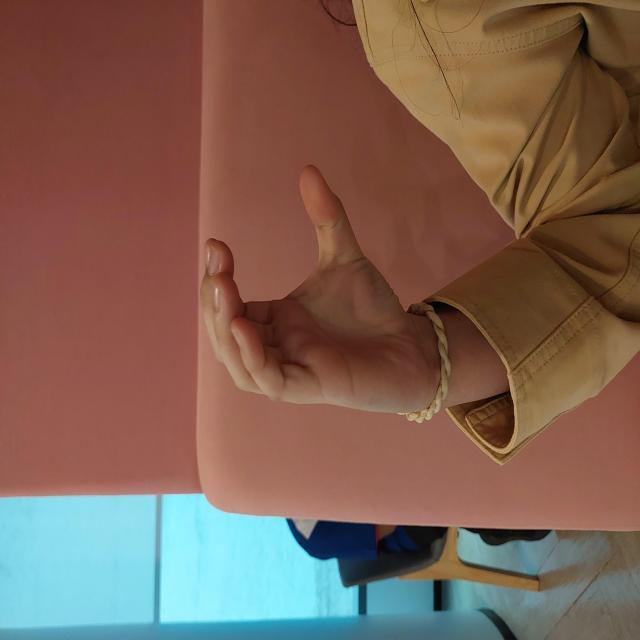C: (218, 192, 482, 428)
